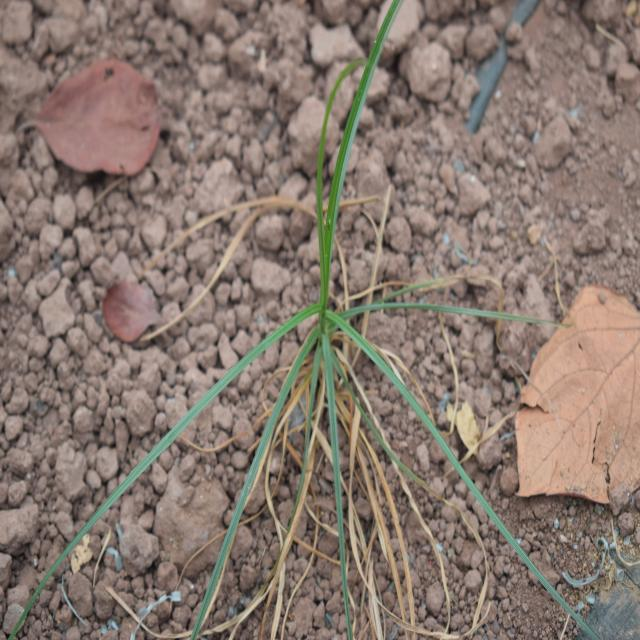sedge: (100, 9, 568, 628)
